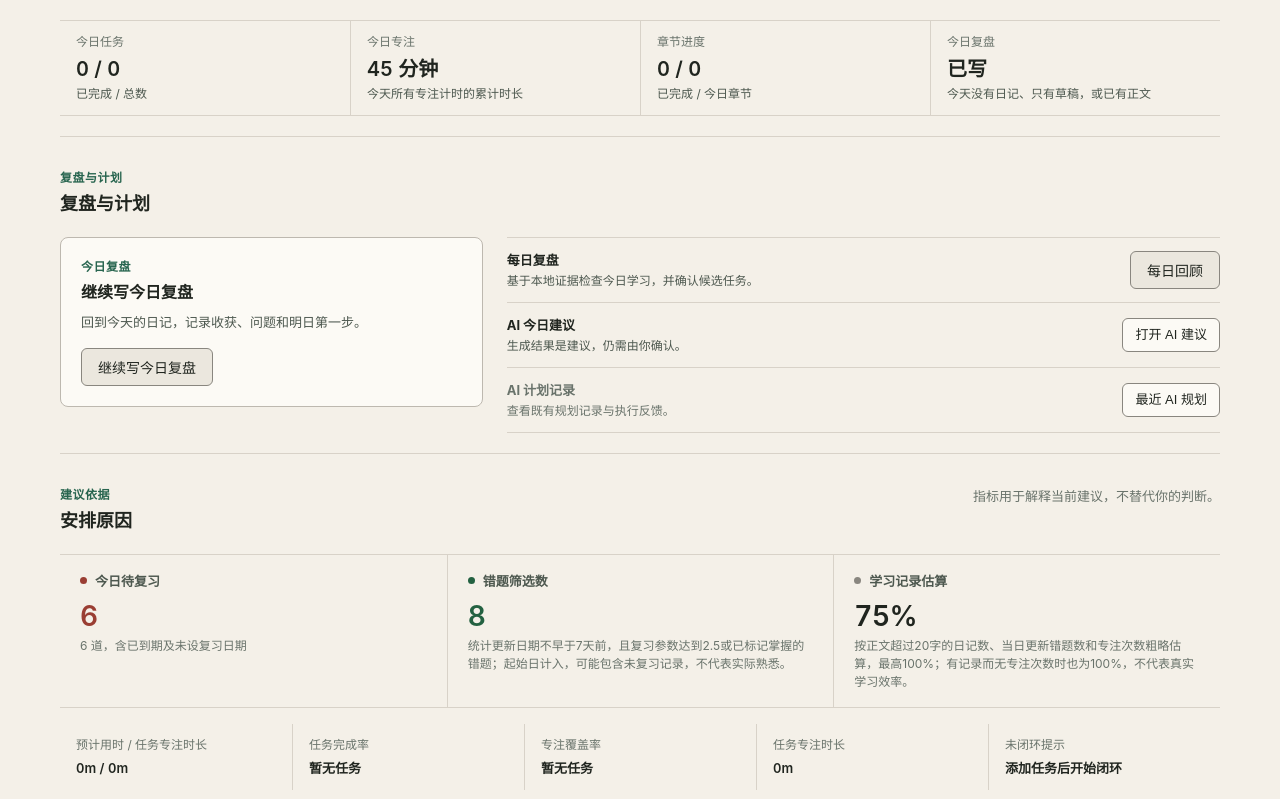
HomeDashboard Component - Commander Engine › opens recent AI planning history and explains browser fallback availability
(page scrolled)
Click the button "最近 AI 规划". click: (1171, 400)
box: x1=1122 y1=382 x2=1220 y2=416
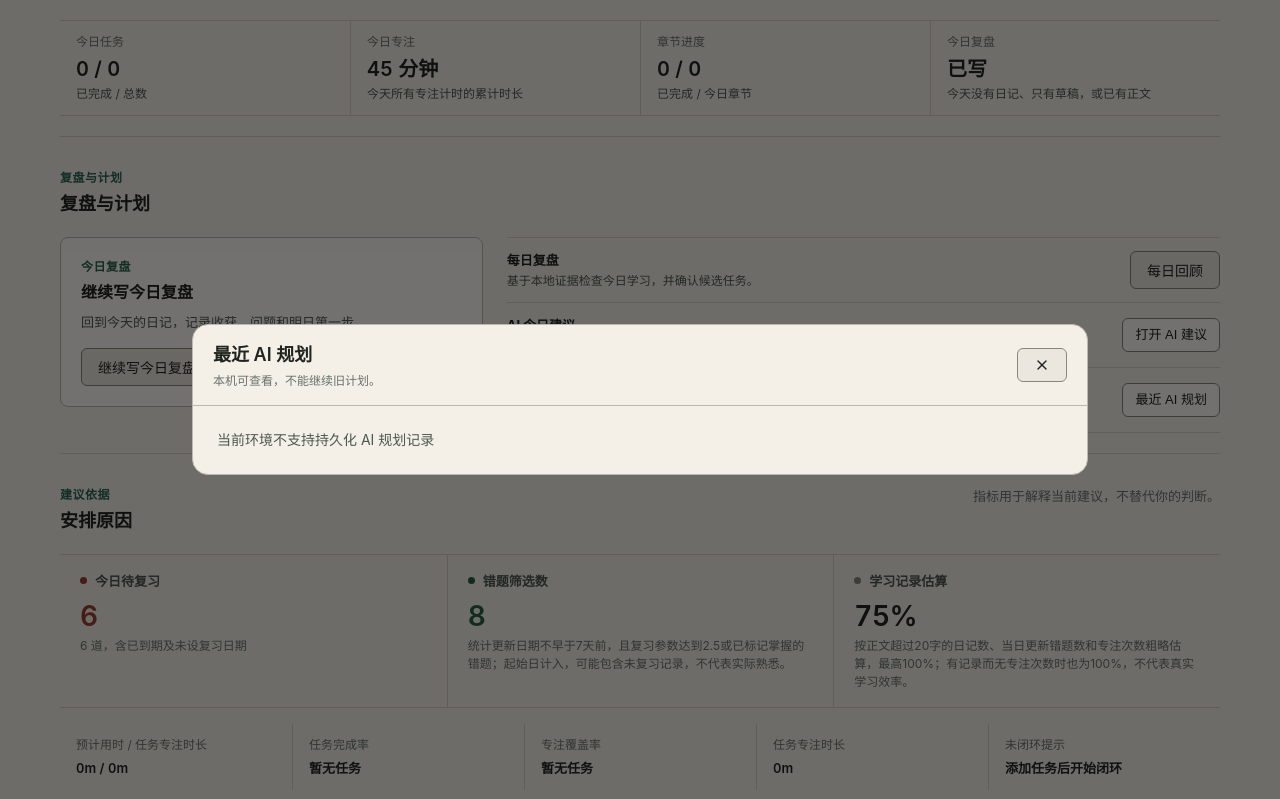
Check: the dialog "最近 AI 规划" shows "当前环境不支持持久化 AI 规划记录", box x1=217 y1=430 x2=434 y2=448
